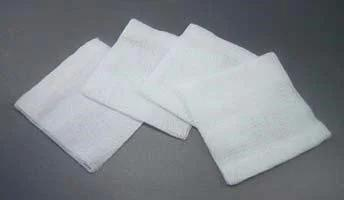gauze: (10, 16, 333, 186)
